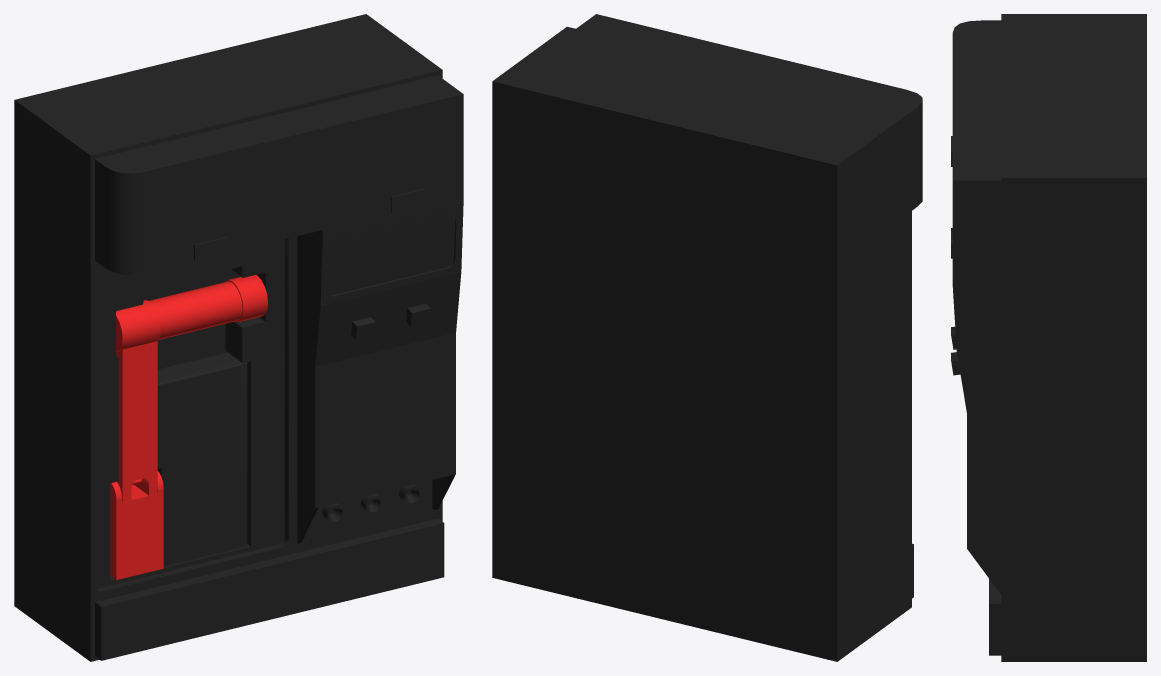
File: SCI-FI_Lever.fbx
The picture shows the model from 3 angles, left to right: view 1: azimuth 30°, elevation 25°; view 2: azimuth 150°, elevation 25°; view 3: azimuth 270°, elevation 25°; orthographic projection. The views are drawn at different scales.
Visible parts, largest first — view 1: Box003, Lever; view 2: Box003; view 3: Box003.
Part boxes in pixels (x1,y1,x2,y2): Box003: [14, 14, 463, 661]; Lever: [110, 275, 267, 579]; Box003: [492, 14, 922, 661]; Box003: [951, 14, 1146, 661].
Size of the model in its own units: 40 by 55 by 20.17.
